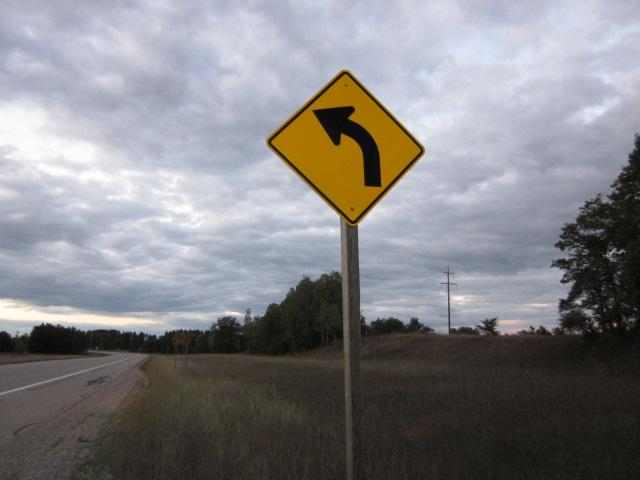warning: (266, 68, 428, 227)
